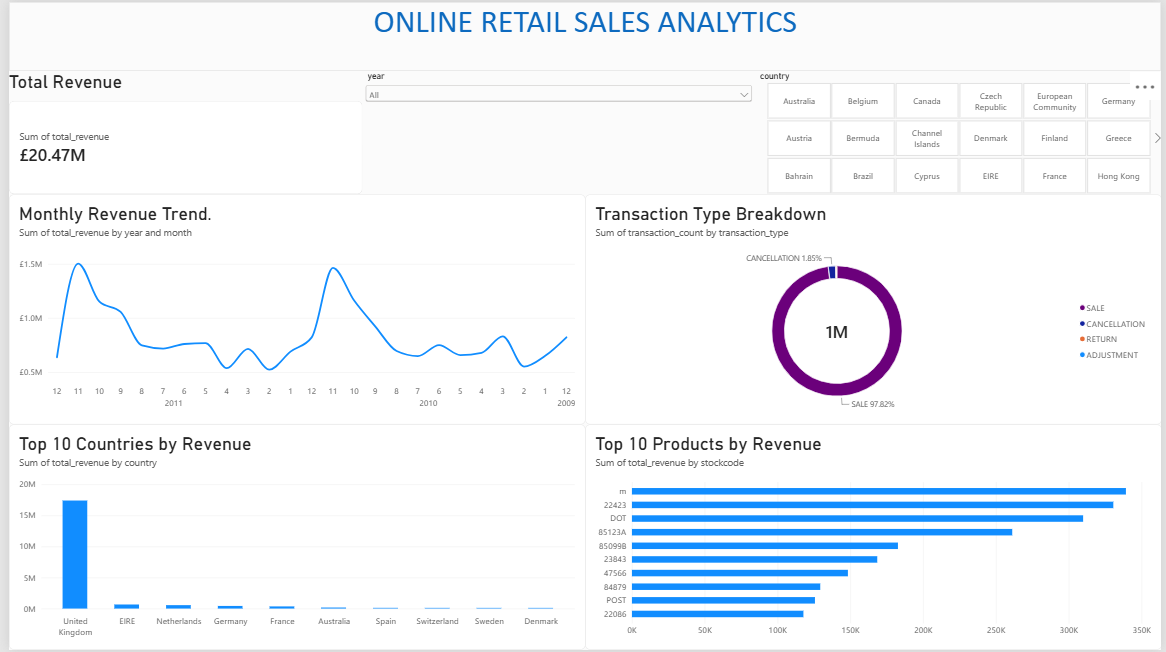

The dashboard page shown, as its layout file describes it:
{"tool":"powerbi","page":{"name":"Page 1","canvas":[1920,1080],"ordinal":0},"visuals":[{"type":"cardVisual","title":"Total Revenue","fields":{"Data":["Sum(monthly_sales_summary.total_revenue)"]},"box":[0,114.6,589.6,206.2],"z":0},{"type":"lineChart","title":"Monthly Revenue Trend.","fields":{"Category":["monthly_sales_summary.year","monthly_sales_summary.month"],"Y":["Sum(monthly_sales_summary.total_revenue)"]},"box":[0,320.8,960.4,383.3],"z":1000},{"type":"clusteredBarChart","title":"Top 10 Products by Revenue","fields":{"Category":["product_analytics_summary.stockcode"],"Y":["Sum(product_analytics_summary.total_revenue)"]},"box":[960.4,704.2,960.4,375],"z":2000},{"type":"clusteredColumnChart","title":"Top 10 Countries by Revenue","fields":{"Category":["country_analytics_summary.country"],"Y":["CountNonNull(country_analytics_summary.total_revenue)"]},"box":[0,704.2,960.4,375],"z":3000},{"type":"donutChart","title":"Transaction Type Breakdown","fields":{"Category":["transaction_overview.transaction_type"],"Y":["Sum(transaction_overview.transaction_count)"]},"box":[960.4,320.8,960.4,383.3],"z":4000},{"type":"slicer","fields":{"Values":["monthly_sales_summary.year"]},"box":[589.6,114.6,654.2,97.9],"z":5000},{"type":"slicer","fields":{"Values":["country_analytics_summary.country"]},"box":[1243.8,114.6,677.1,206.2],"z":6000},{"type":"textbox","box":[0,0,1920.8,114.6],"z":7000}]}

Visuals, with their boxes in screenshot pixels (x1, y1, x2, y2), scaled from the page's 1920x1080 canvas onto the 1166x652 screenshot:
"Total Revenue" cardVisual: left=0, top=69, right=358, bottom=194
"Monthly Revenue Trend." lineChart: left=0, top=194, right=583, bottom=425
"Top 10 Products by Revenue" clusteredBarChart: left=583, top=425, right=1165, bottom=651
"Top 10 Countries by Revenue" clusteredColumnChart: left=0, top=425, right=583, bottom=651
"Transaction Type Breakdown" donutChart: left=583, top=194, right=1165, bottom=425
slicer - monthly_sales_summary.year: left=358, top=69, right=755, bottom=128
slicer - country_analytics_summary.country: left=755, top=69, right=1165, bottom=194
textbox: left=0, top=0, right=1165, bottom=69
